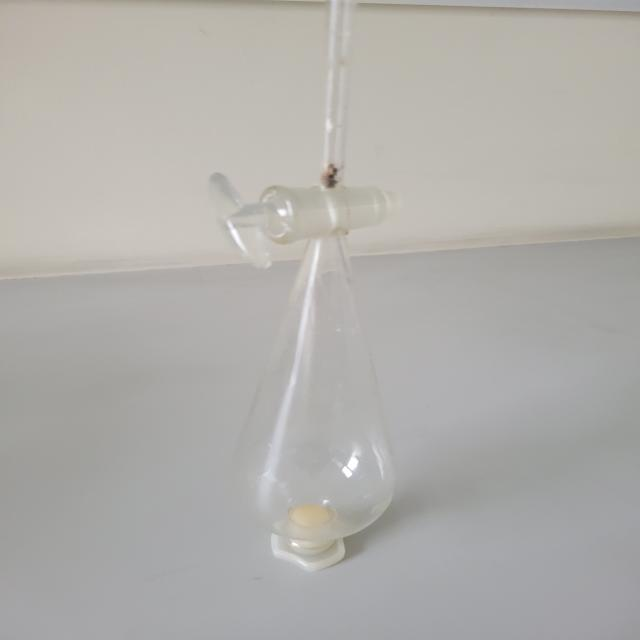Separating_Funnel: (191, 2, 472, 582)
